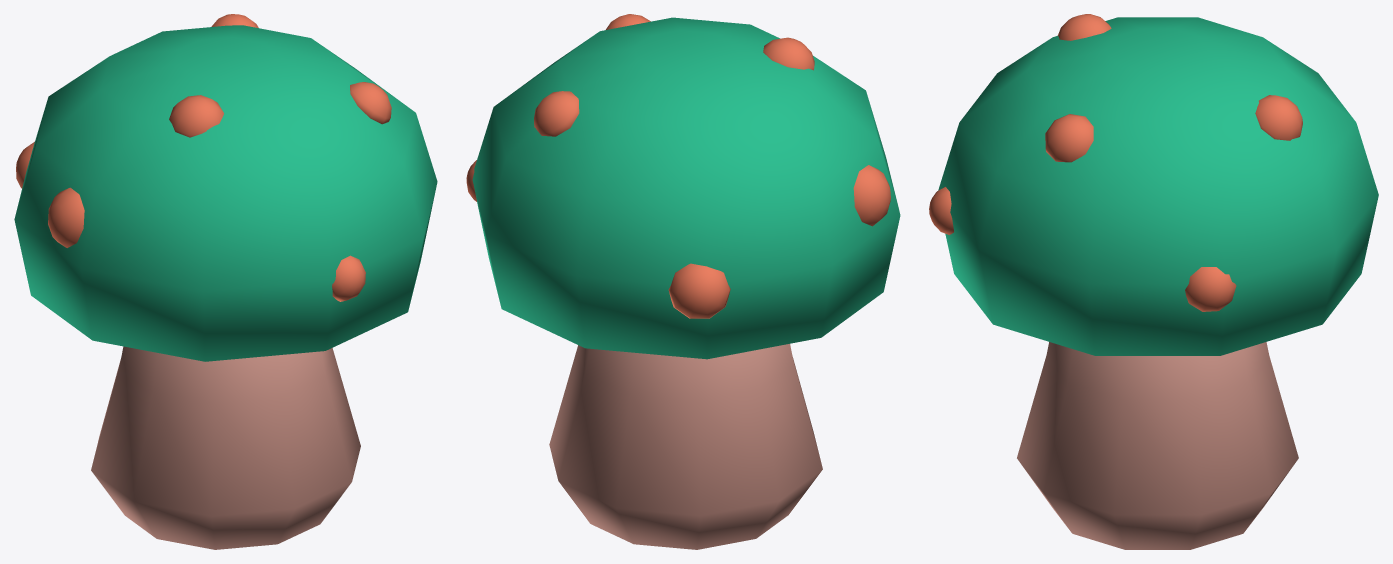
Rendered from Mushroom_FlyAgaric_Turquoise_3.fbx.
3 views of the same model, side by side, from view 1: azimuth 30°, elevation 25°; view 2: azimuth 150°, elevation 25°; view 3: azimuth 270°, elevation 25° (orthographic). The views are drawn at different scales.
Parts seen in each view (by area): view 1: Cylinder.556, Cylinder.557, Cylinder.558; view 2: Cylinder.556, Cylinder.557, Cylinder.558; view 3: Cylinder.556, Cylinder.557, Cylinder.558.
Boxes of the visible parts, x1,y1,x2,y2 form: Cylinder.556: [14, 25, 437, 361]; Cylinder.557: [91, 346, 360, 549]; Cylinder.558: [16, 14, 391, 301]; Cylinder.556: [472, 17, 900, 359]; Cylinder.557: [549, 344, 822, 549]; Cylinder.558: [466, 14, 890, 318]; Cylinder.556: [938, 17, 1378, 355]; Cylinder.557: [1017, 342, 1298, 549]; Cylinder.558: [929, 14, 1302, 311].
Bounding box in the file's own units: 81.5 × 93.68 × 83.14.
